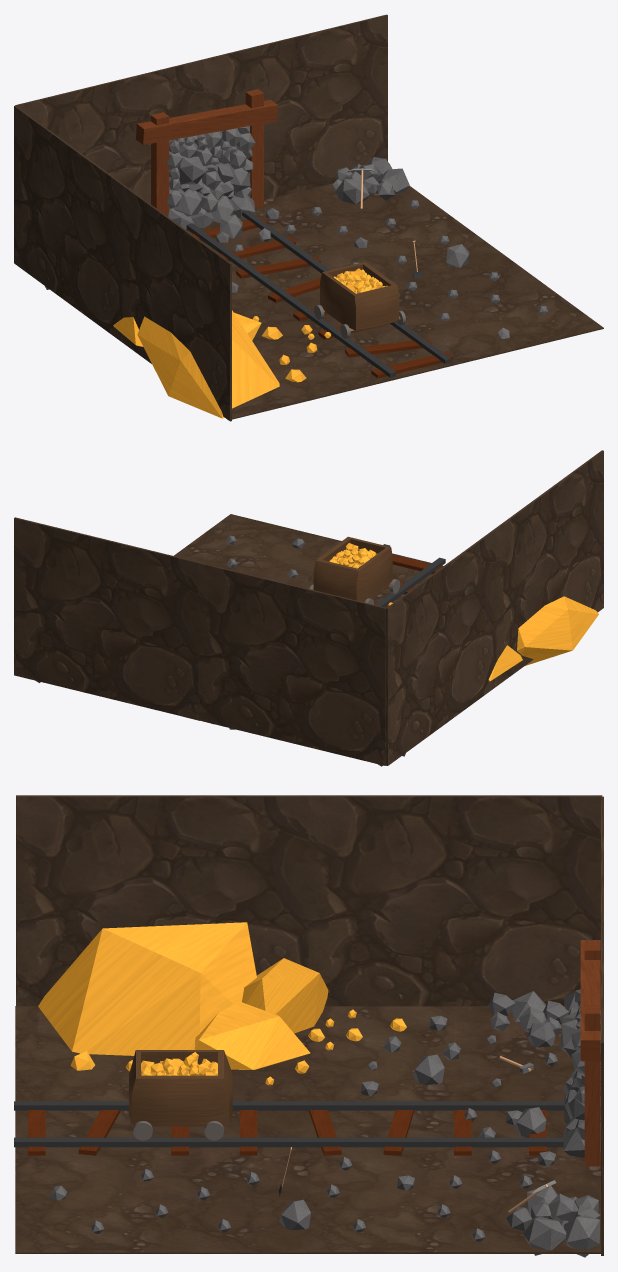
3 renders of one model, top to bottom at view 1: azimuth 30°, elevation 25°; view 2: azimuth 150°, elevation 25°; view 3: azimuth 270°, elevation 25°, orthographic. The views are drawn at different scales.
Parts seen in each view (by area): view 1: Wall5 (×2), Wall4 (×2), Floor3, Floor2, Floor4, Rock75, Cart1, Wooden_Door5, Floor1, Steel_Rail1, Wooden_Door6, Steel_Rail2 (+7 smaller); view 2: Wall5 (×2), Wall4 (×2), Floor3, Rock75, Cart1, Steel_Rail1, Rock77, Floor4; view 3: Wall5 (×2), Wall4, Floor3, Floor2, Floor1, Rock75, Floor4, Cart1, Steel_Rail2, Rock76, Steel_Rail1, Rock77 (+14 smaller).
Boxes of the visible parts, x1=… form: Wall5 (×2): x1=14, y1=14, x2=387, y2=342; Wall4 (×2): x1=15, y1=59, x2=231, y2=421; Floor3: x1=314, y1=249, x2=603, y2=373; Floor2: x1=216, y1=183, x2=495, y2=293; Floor4: x1=231, y1=293, x2=420, y2=419; Rock75: x1=137, y1=310, x2=279, y2=418; Cart1: x1=320, y1=262, x2=399, y2=330; Wooden_Door5: x1=136, y1=100, x2=277, y2=144; Floor1: x1=187, y1=221, x2=312, y2=312; Steel_Rail1: x1=186, y1=223, x2=395, y2=377; Wooden_Door6: x1=151, y1=112, x2=169, y2=215; Steel_Rail2: x1=242, y1=210, x2=451, y2=363; Wall5 (×2): x1=14, y1=517, x2=496, y2=765; Wall4 (×2): x1=197, y1=450, x2=603, y2=765; Floor3: x1=174, y1=514, x2=413, y2=588; Rock75: x1=517, y1=596, x2=598, y2=665; Cart1: x1=313, y1=536, x2=392, y2=602; Steel_Rail1: x1=375, y1=557, x2=445, y2=607; Rock77: x1=488, y1=645, x2=522, y2=681; Floor4: x1=371, y1=558, x2=443, y2=602; Wall5 (×2): x1=308, y1=795, x2=603, y2=1255; Wall4: x1=16, y1=795, x2=308, y2=1006; Floor3: x1=15, y1=1131, x2=307, y2=1253; Floor2: x1=306, y1=1131, x2=603, y2=1253; Floor1: x1=306, y1=1006, x2=600, y2=1130; Rock75: x1=38, y1=922, x2=256, y2=1055; Floor4: x1=15, y1=1006, x2=307, y2=1130; Cart1: x1=129, y1=1050, x2=232, y2=1126; Steel_Rail2: x1=14, y1=1137, x2=563, y2=1147; Rock76: x1=194, y1=1001, x2=310, y2=1069; Steel_Rail1: x1=14, y1=1101, x2=565, y2=1110; Rock77: x1=242, y1=958, x2=328, y2=1033.
Size of the model in its own units: 3.1 by 1.33 by 3.
Materials: 15 (15 with a texture image).
